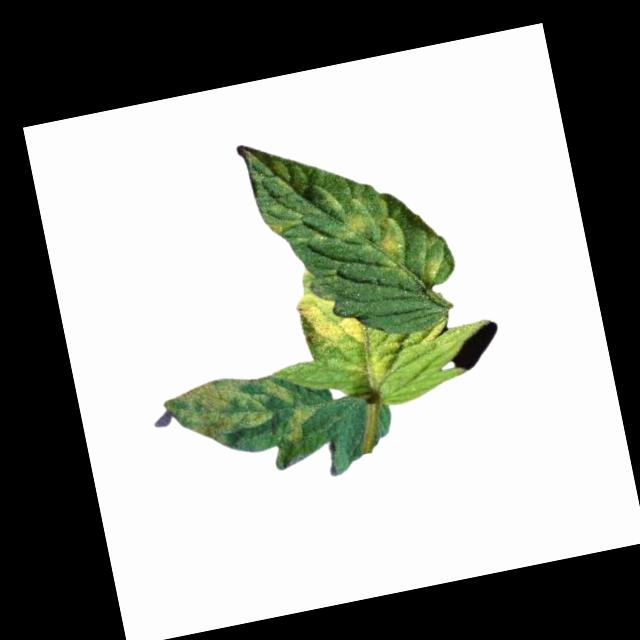Leaf_Mold: (160, 360, 323, 489), (287, 257, 369, 361), (334, 192, 413, 274), (411, 230, 453, 286)
